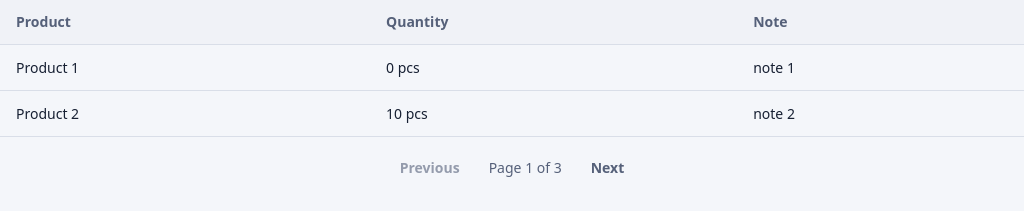
Test: DataTable › pages the rows on the client
Expected: the text "Page 1 of 3" is shown, [489, 156, 562, 178]
Expected: the button "Previous" is disabled, [383, 145, 477, 189]
What coordinates should you click on to do the following:
click the button "Next"
I would click on:
 (607, 167)
Its box is [574, 145, 641, 189].
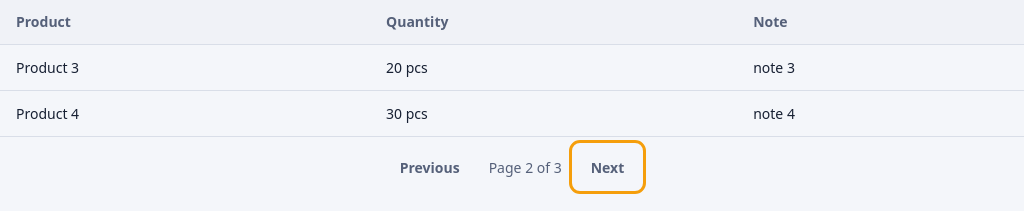
Now the text "Product 3" is shown, box [0, 45, 370, 90]
Now the text "Product 1" is gone
